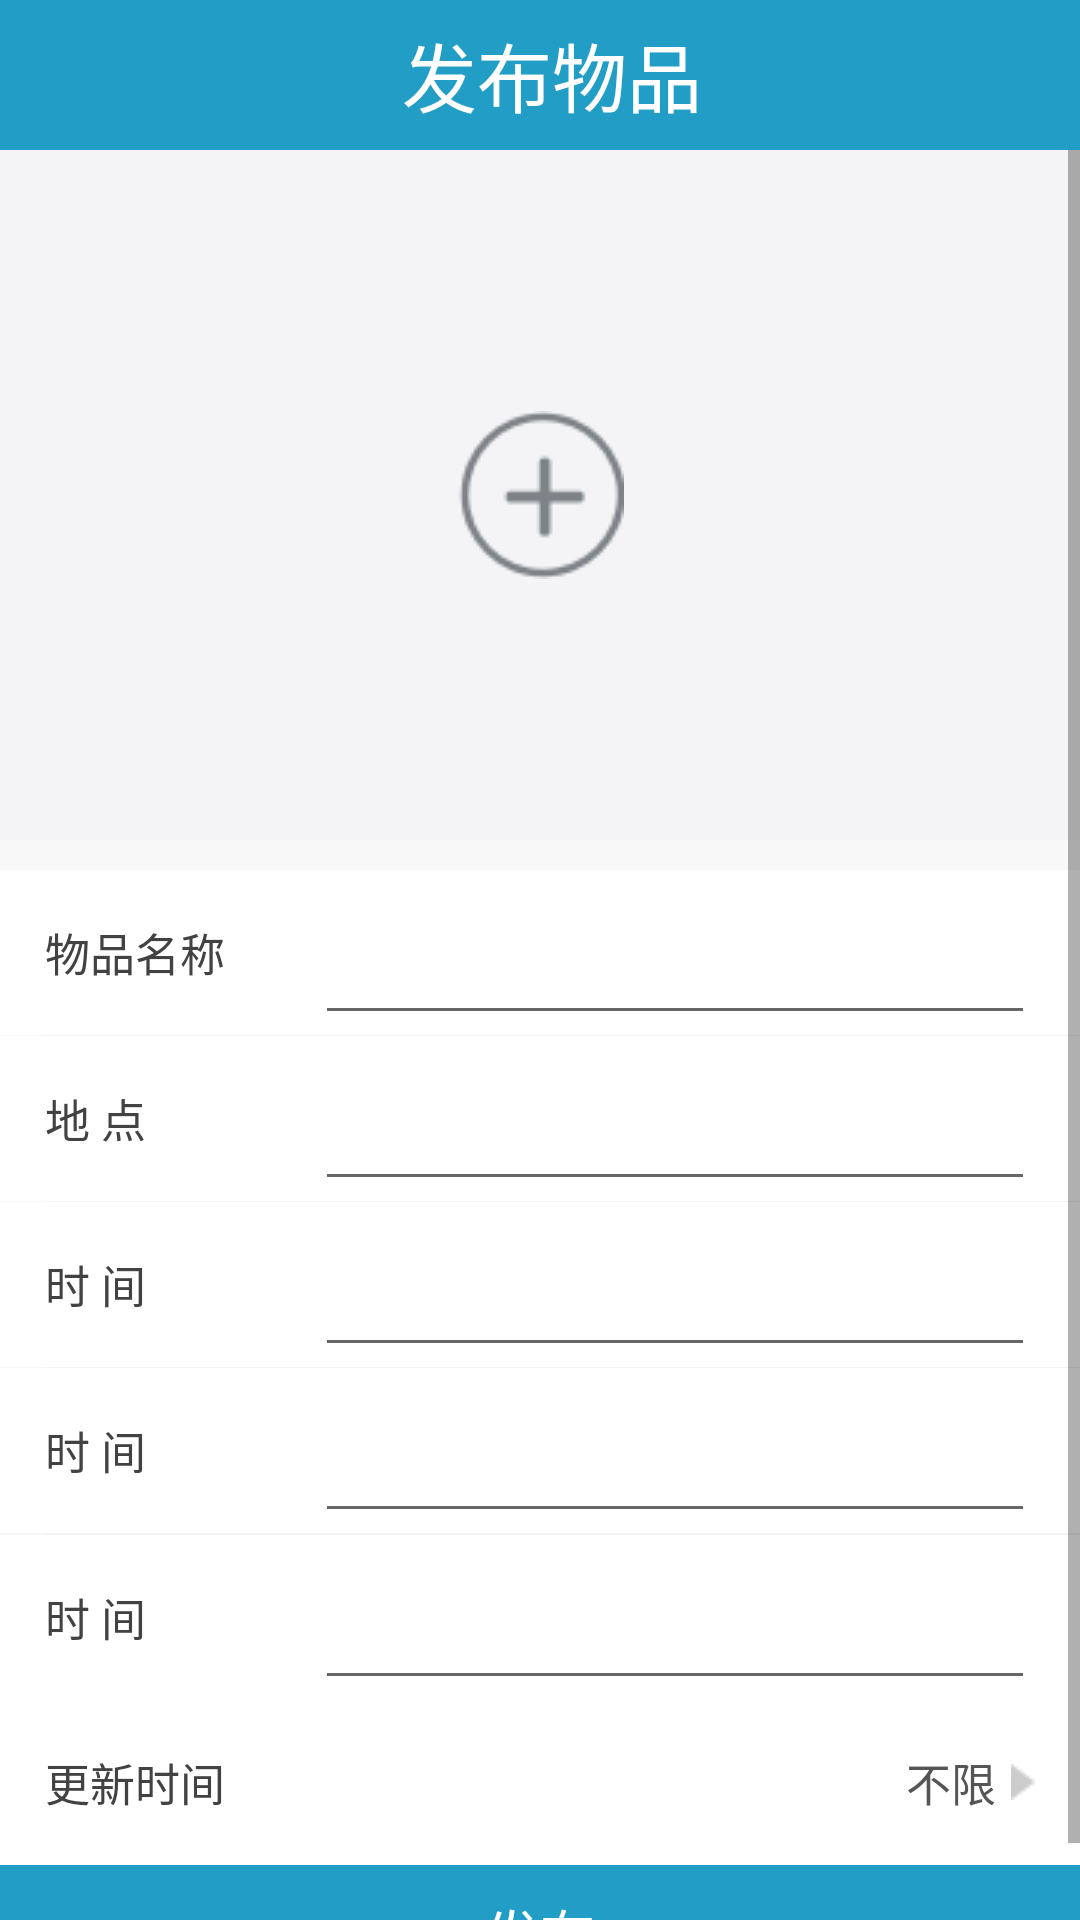

Named icons in this screenshot (1080x1920) and their bounding boxes, [left=x1, top=y1, right=x2, bottom=y2]:
invite right: [left=1011, top=1764, right=1033, bottom=1800]
issue add: [left=460, top=411, right=624, bottom=579]
